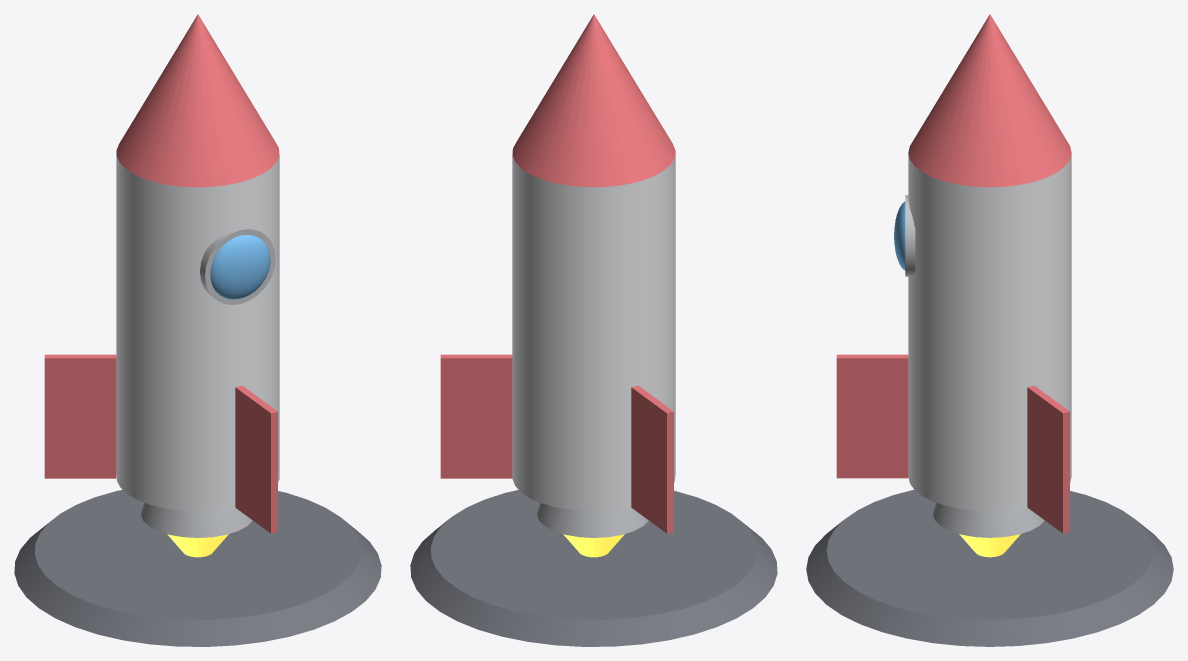
The model's file is cohete.glb.
3 renders of one model, left to right at view 1: azimuth 30°, elevation 25°; view 2: azimuth 150°, elevation 25°; view 3: azimuth 270°, elevation 25°, orthographic.
Parts seen in each view (by area): view 1: Fuselaje, Plataforma, Punta, Aleta 3, Aleta 1, Ventana, Tobera, Marco, Llama; view 2: Fuselaje, Plataforma, Punta, Aleta 2, Aleta 3, Tobera, Llama; view 3: Fuselaje, Plataforma, Punta, Aleta 1, Aleta 2, Tobera, Llama, Marco, Ventana.
Part boxes in pixels (left/top/right/bottom): Fuselaje: left=116, top=151, right=279, bottom=511; Plataforma: left=14, top=490, right=381, bottom=646; Punta: left=116, top=14, right=279, bottom=187; Aleta 3: left=44, top=354, right=116, bottom=478; Aleta 1: left=235, top=385, right=277, bottom=533; Ventana: left=210, top=235, right=270, bottom=299; Tobera: left=141, top=503, right=252, bottom=537; Marco: left=200, top=227, right=275, bottom=304; Llama: left=167, top=534, right=228, bottom=557; Fuselaje: left=512, top=151, right=675, bottom=511; Plataforma: left=410, top=490, right=777, bottom=646; Punta: left=512, top=14, right=675, bottom=187; Aleta 2: left=440, top=354, right=512, bottom=478; Aleta 3: left=631, top=385, right=673, bottom=533; Tobera: left=537, top=503, right=648, bottom=537; Llama: left=563, top=534, right=624, bottom=557; Fuselaje: left=908, top=154, right=1071, bottom=511; Plataforma: left=806, top=490, right=1173, bottom=646; Punta: left=908, top=14, right=1071, bottom=187; Aleta 1: left=836, top=354, right=908, bottom=478; Aleta 2: left=1027, top=385, right=1069, bottom=533; Tobera: left=933, top=502, right=1044, bottom=537; Llama: left=959, top=534, right=1020, bottom=557; Marco: left=905, top=195, right=915, bottom=276; Ventana: left=894, top=201, right=905, bottom=270.
Size of the model in its own units: 0.36 by 0.6 by 0.36.
